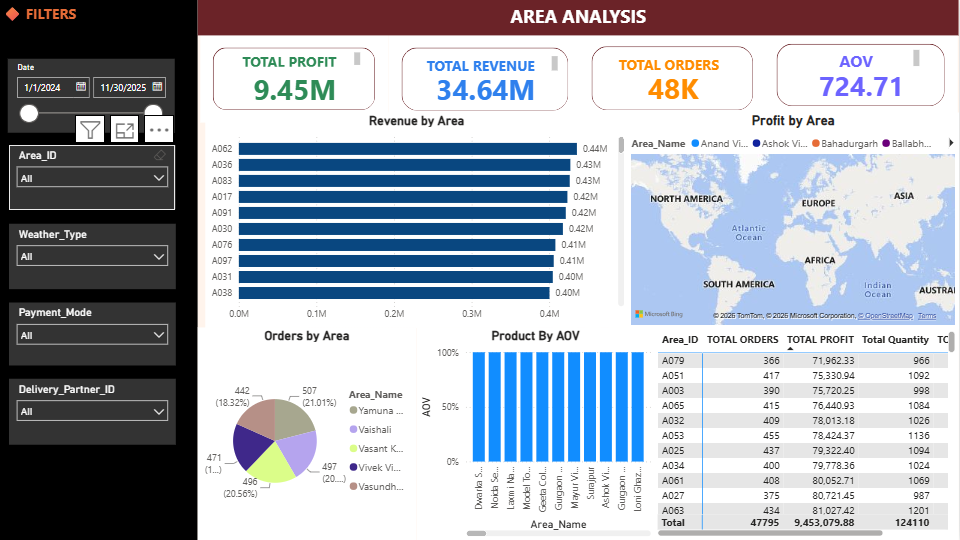

What the dashboard file says about the page in this screenshot:
{"tool":"powerbi","page":{"name":"Area Analysis","canvas":[1280,720],"ordinal":1},"visuals":[{"type":"textbox","box":[0,0,265,720],"z":0},{"type":"slicer","fields":{"Values":["Dim_Calendar.Date"]},"box":[12.3,78.2,222.3,97.4],"z":1000},{"type":"slicer","fields":{"Values":["Dim_Area.Area_ID"]},"box":[12.8,193.9,222.4,85.5],"z":2000},{"type":"slicer","fields":{"Values":["Dim_Weather.Weather_Type"]},"box":[12.8,297.9,222.4,86.9],"z":3000},{"type":"slicer","fields":{"Values":["Fact_Sales.Payment_Mode"]},"box":[12.8,403.4,222.4,84.1],"z":4000},{"type":"slicer","fields":{"Values":["Fact_Sales.Delivery_Partner_ID"]},"box":[12.8,504.6,222.4,88.4],"z":5000},{"type":"cardVisual","title":"Tota","fields":{"Data":["Fact_Sales.Total Profit"]},"box":[267.8,47.1,250.9,117],"z":6000},{"type":"cardVisual","fields":{"Data":["Fact_Sales.Total Revenue"]},"box":[518.8,44.6,257,119.4],"z":7000},{"type":"cardVisual","fields":{"Data":["Fact_Sales.Total Orders"]},"box":[773.3,44.6,249.7,119.4],"z":8000},{"type":"cardVisual","title":"AOV","fields":{"Data":["Fact_Sales.AOV"]},"box":[1020.6,42.2,258.2,117],"z":9000},{"type":"textbox","box":[299.2,65.1,187,29],"z":10000},{"type":"textbox","box":[544.1,70,206.3,31.4],"z":11000},{"type":"clusteredBarChart","title":"Revenue by Area","fields":{"Y":["Fact_Sales.TOTAL REVENUE"],"Category":["Fact_Sales.Area_ID"]},"box":[275,150,563.8,287.5],"z":12000},{"type":"map","title":"Profit by Area ","fields":{"Series":["Dim_Area.Area_Name"],"Size":["Fact_Sales.TOTAL PROFIT"]},"box":[838.5,150.8,441.6,288.3],"z":13000},{"type":"pieChart","title":"Orders by Area","fields":{"Y":["Fact_Sales.TOTAL ORDERS"],"Category":["Dim_Area.Area_Name"]},"box":[265,436.2,291.2,283.8],"z":14000},{"type":"hundredPercentStackedColumnChart","title":"Product By AOV","fields":{"Y":["Fact_Sales.AOV"],"Category":["Dim_Area.Area_Name"]},"box":[556.2,436.2,317.5,283.8],"z":15000},{"type":"pivotTable","fields":{"Values":["Fact_Sales.TOTAL ORDERS","Fact_Sales.TOTAL PROFIT","Fact_Sales.Total Quantity","Fact_Sales.TOTAL REVENUE"],"Rows":["Dim_Area.Area_ID"]},"box":[873.8,436.2,406.2,283.8],"z":16000},{"type":"textbox","box":[803.5,68.8,179.8,35],"z":17000},{"type":"textbox","box":[1059.3,61.5,172.5,35],"z":18000},{"type":"textbox","box":[265.4,0,1014.6,47.1],"z":19000}]}

Visuals, with their boxes in screenshot pixels (x1, y1, x2, y2), scaled from the page's 1280x720 canvas onto the 960x540 screenshot:
textbox: x1=0, y1=0, x2=199, y2=539
slicer - Dim_Calendar.Date: x1=9, y1=59, x2=176, y2=132
slicer - Dim_Area.Area_ID: x1=10, y1=145, x2=176, y2=210
slicer - Dim_Weather.Weather_Type: x1=10, y1=223, x2=176, y2=289
slicer - Fact_Sales.Payment_Mode: x1=10, y1=303, x2=176, y2=366
slicer - Fact_Sales.Delivery_Partner_ID: x1=10, y1=378, x2=176, y2=445
"Tota" cardVisual: x1=201, y1=35, x2=389, y2=123
cardVisual - Fact_Sales.Total Revenue: x1=389, y1=33, x2=582, y2=123
cardVisual - Fact_Sales.Total Orders: x1=580, y1=33, x2=767, y2=123
"AOV" cardVisual: x1=765, y1=32, x2=959, y2=119
textbox: x1=224, y1=49, x2=365, y2=71
textbox: x1=408, y1=52, x2=563, y2=76
"Revenue by Area" clusteredBarChart: x1=206, y1=112, x2=629, y2=328
"Profit by Area " map: x1=629, y1=113, x2=959, y2=329
"Orders by Area" pieChart: x1=199, y1=327, x2=417, y2=539
"Product By AOV" hundredPercentStackedColumnChart: x1=417, y1=327, x2=655, y2=539
pivotTable - Fact_Sales.TOTAL ORDERS x Fact_Sales.TOTAL PROFIT: x1=655, y1=327, x2=959, y2=539
textbox: x1=603, y1=52, x2=737, y2=78
textbox: x1=794, y1=46, x2=924, y2=72
textbox: x1=199, y1=0, x2=959, y2=35
